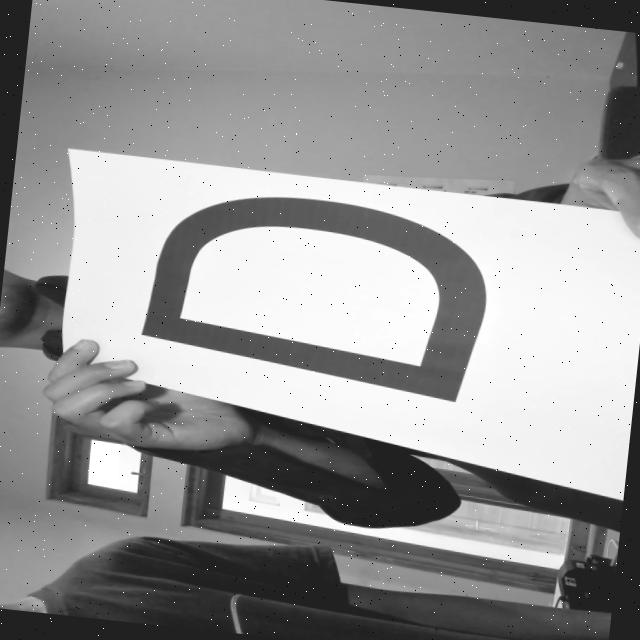d: (106, 174, 528, 410)
